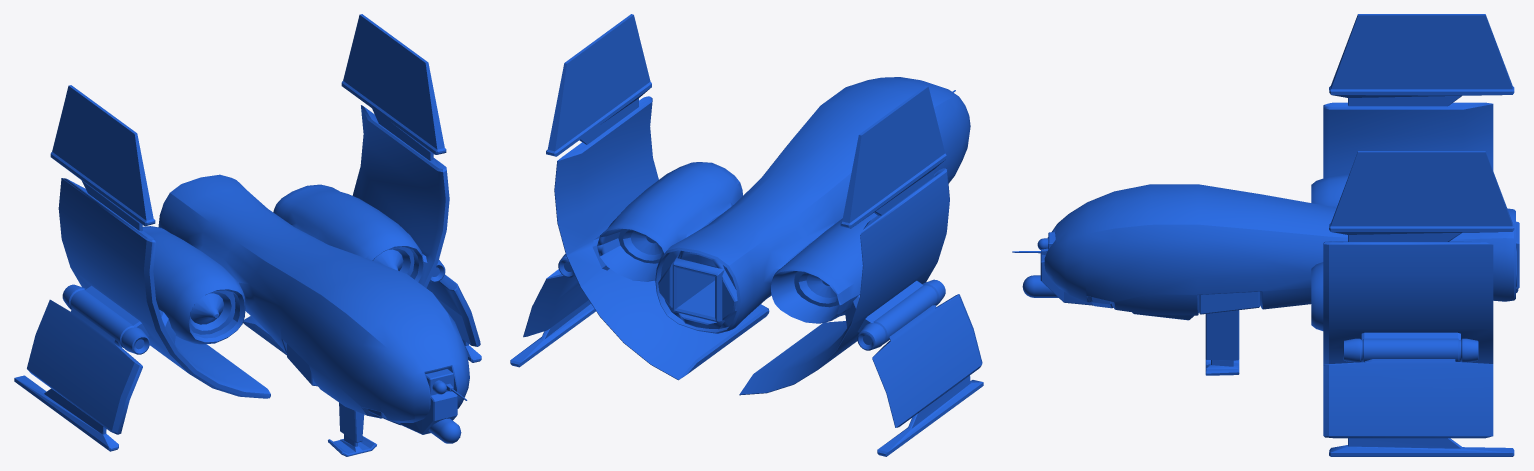
The model's file is Enemy04.FBX.
The picture shows the model from 3 angles, left to right: view 1: azimuth 30°, elevation 25°; view 2: azimuth 150°, elevation 25°; view 3: azimuth 270°, elevation 25°; orthographic projection. The views are drawn at different scales.
Visible parts, largest first — view 1: Enemy04; view 2: Enemy04; view 3: Enemy04.
Boxes of the visible parts, x1,y1,x2,y2 form: Enemy04: (14,14,481,456); Enemy04: (510,14,983,456); Enemy04: (1012,14,1519,456).
Bounding box in the file's own units: 195 × 149 × 238.
